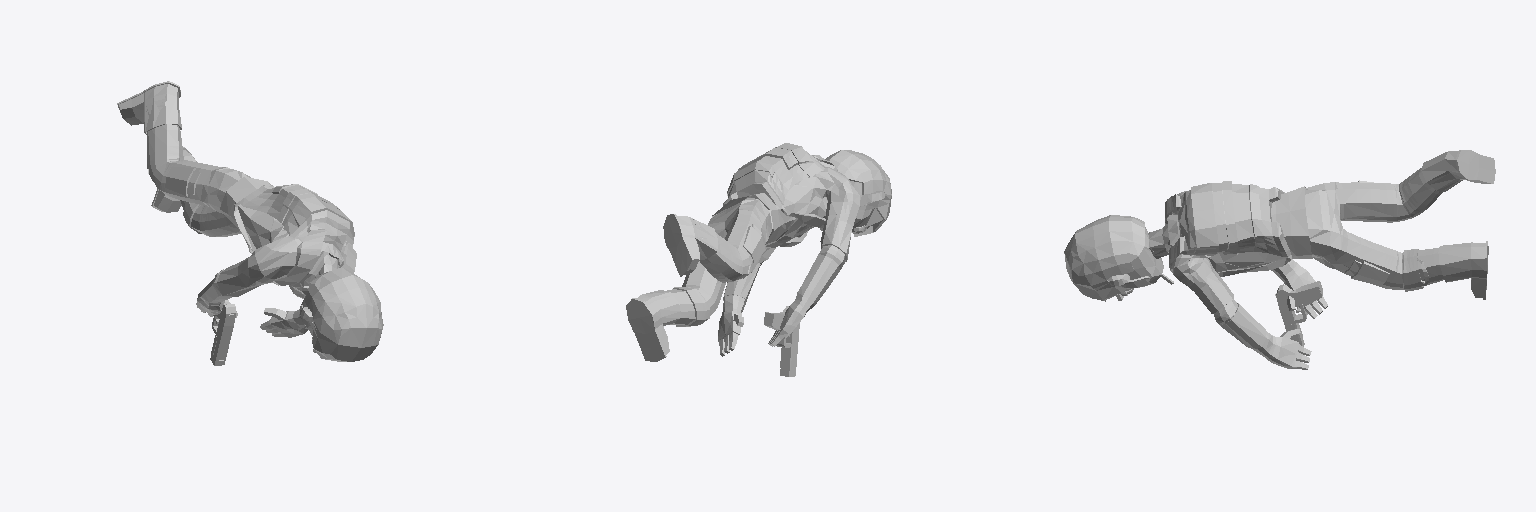
The model's file is frame_0022.obj.
3 renders of one model, left to right at view 1: azimuth 30°, elevation 25°; view 2: azimuth 150°, elevation 25°; view 3: azimuth 270°, elevation 25°, orthographic.
Parts seen in each view (by area): view 1: Body, Gun; view 2: Body, Gun; view 3: Body, Gun.
Part boxes in pixels (left/top/right/bottom): Body: left=117, top=81, right=383, bottom=361; Gun: left=210, top=300, right=236, bottom=365; Body: left=626, top=143, right=891, bottom=361; Gun: left=764, top=306, right=799, bottom=376; Body: left=1064, top=150, right=1495, bottom=369; Gun: left=1275, top=281, right=1322, bottom=346.
Size of the model in its own units: 1.31 by 2.28 by 4.14.